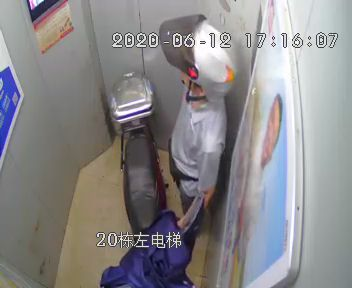Electric-bicycle: (100, 72, 204, 288)
